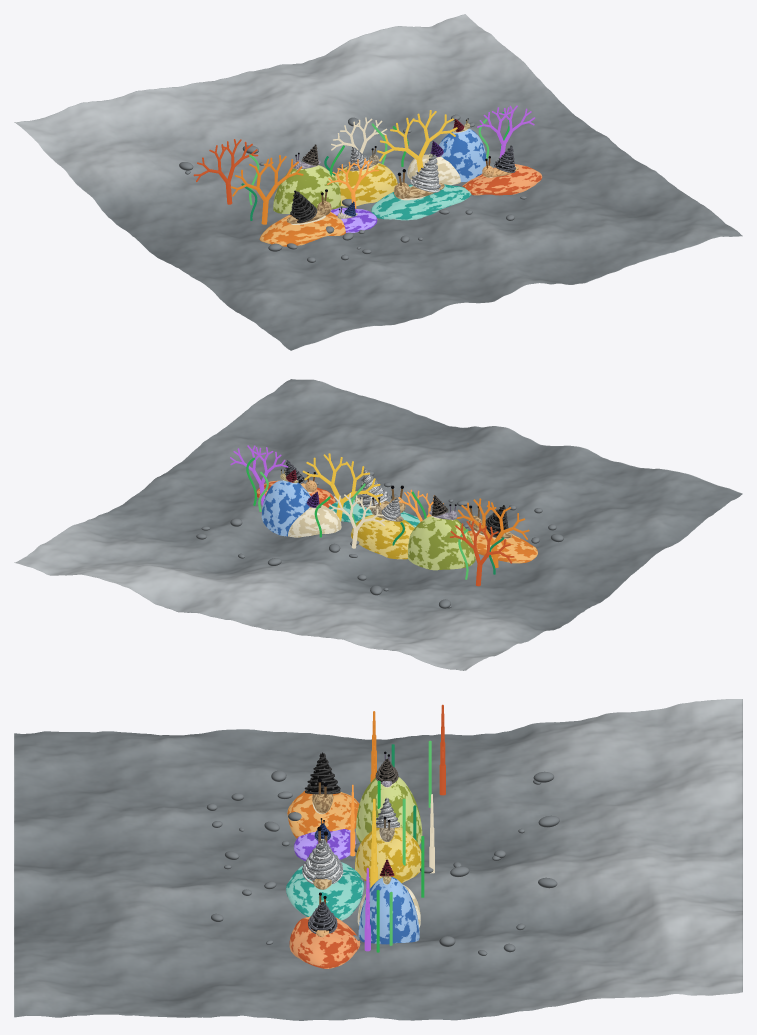
The model's file is canopy-epiphytic.glb.
3 views of the same model, one above another, from view 1: azimuth 30°, elevation 25°; view 2: azimuth 150°, elevation 25°; view 3: azimuth 270°, elevation 25° (orthographic). The views are drawn at different scales.
Visible parts, largest first — view 1: Terrain, mound.006, mound.003, mound.007, mound, mound.002, mound.005, mound.004, mound.001; view 2: Terrain, mound.006, mound.007, mound.002, mound.004, mound, mound.003; view 3: Terrain, mound.007, mound.003, mound.005, mound.002, mound.006, mound, mound.001.
Part boxes in pixels (x1=…): Terrain: x1=14, y1=14, x2=742, y2=350; mound.006: x1=273, y1=165, x2=340, y2=213; mound.003: x1=371, y1=184, x2=471, y2=220; mound.007: x1=439, y1=129, x2=486, y2=181; mound: x1=259, y1=212, x2=345, y2=246; mound.002: x1=334, y1=163, x2=397, y2=206; mound.005: x1=462, y1=164, x2=542, y2=195; mound.004: x1=407, y1=154, x2=460, y2=185; mound.001: x1=330, y1=208, x2=377, y2=232; Terrain: x1=14, y1=379, x2=742, y2=670; mound.006: x1=408, y1=516, x2=475, y2=570; mound.007: x1=261, y1=480, x2=310, y2=536; mound.002: x1=351, y1=514, x2=414, y2=559; mound.004: x1=288, y1=505, x2=341, y2=537; mound: x1=468, y1=530, x2=537, y2=563; mound.003: x1=328, y1=498, x2=420, y2=527; Terrain: x1=14, y1=699, x2=742, y2=1020; mound.007: x1=358, y1=877, x2=419, y2=944; mound.003: x1=285, y1=862, x2=363, y2=920; mound.005: x1=289, y1=916, x2=360, y2=968; mound.002: x1=355, y1=827, x2=421, y2=883; mound.006: x1=356, y1=777, x2=422, y2=844; mound: x1=287, y1=790, x2=359, y2=838; mound.001: x1=294, y1=829, x2=355, y2=861.
Bounding box in the file's own units: 32 × 5.26 × 34.
71 materials, 33 textured.
